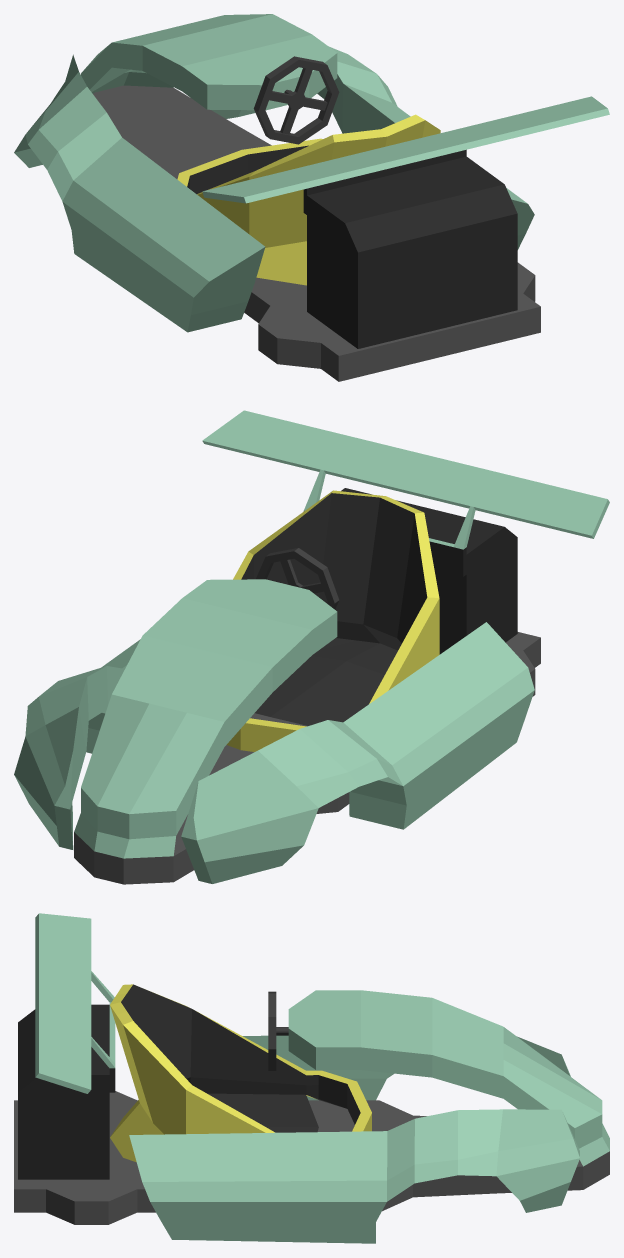
Rendered from Kart-1.fbx.
3 views of the same model, one above another, from view 1: azimuth 30°, elevation 25°; view 2: azimuth 150°, elevation 25°; view 3: azimuth 270°, elevation 25° (orthographic). The views are drawn at different scales.
Parts seen in each view (by area): view 1: Karts; view 2: Karts; view 3: Karts.
Boxes of the visible parts, x1,y1,x2,y2 form: Karts: (14, 14, 609, 381); Karts: (14, 410, 609, 884); Karts: (14, 913, 609, 1243).
Bounding box in the file's own units: 8.18 × 12.03 × 3.98.
